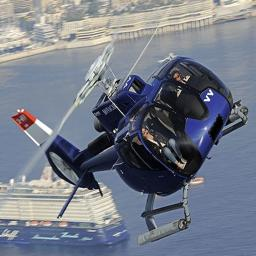helicopter: (13, 28, 249, 246)
